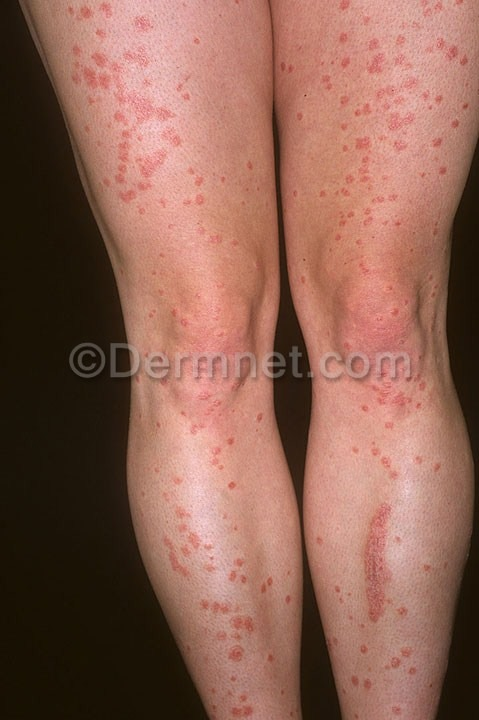Psoriasis: (145, 387, 297, 713), (53, 2, 247, 231), (310, 1, 469, 242), (335, 500, 445, 717), (354, 377, 458, 492), (132, 250, 239, 340), (355, 247, 450, 336)
